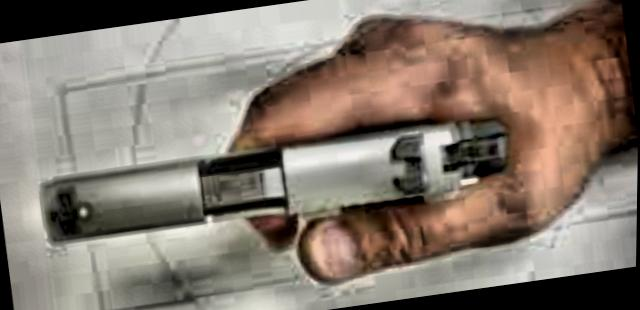pistol: (26, 80, 526, 262)
